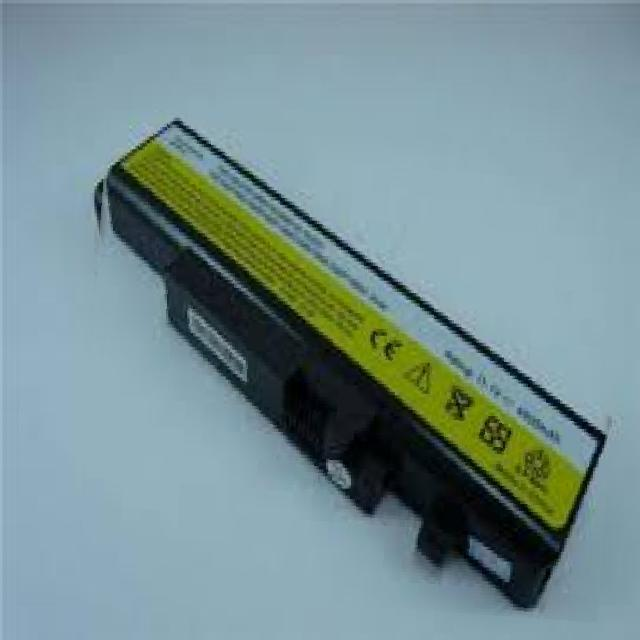Battery: (98, 90, 615, 614)
